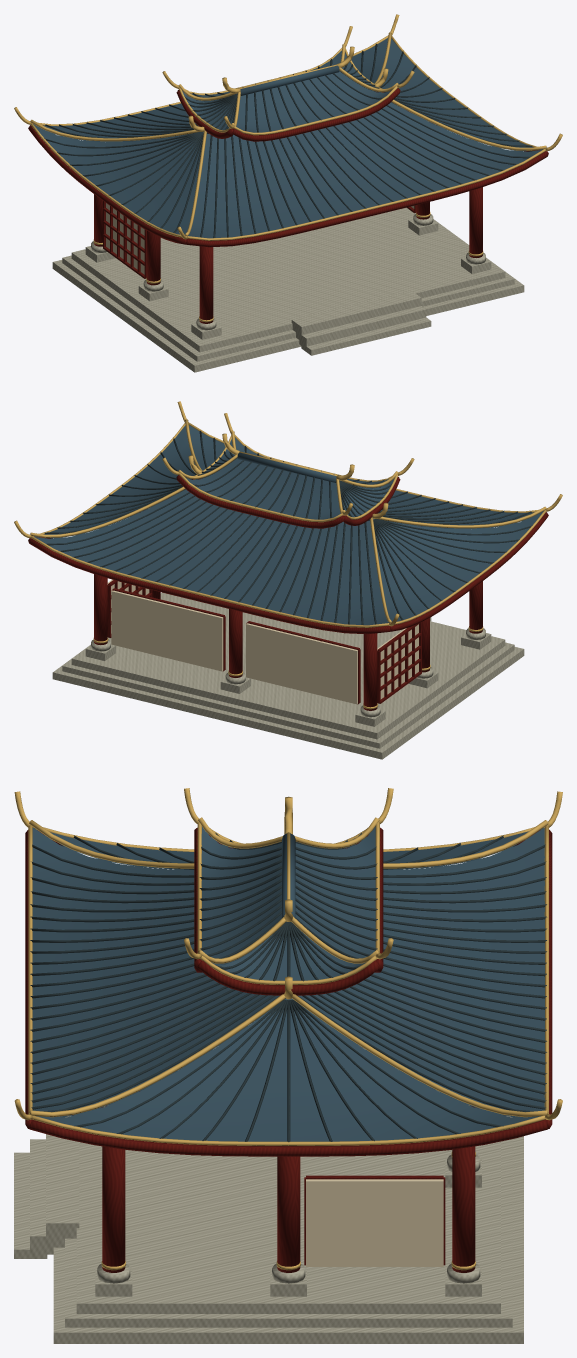
Rendered from pavilion.glb.
3 views of the same model, one above another, from view 1: azimuth 30°, elevation 25°; view 2: azimuth 150°, elevation 25°; view 3: azimuth 270°, elevation 25° (orthographic). The views are drawn at different scales.
Visible parts, largest first — view 1: pavilion_Temple_Charcoal_Glazed_Tiles, pavilion_Temple_Worn_Pale_Stone, pavilion_Temple_Dark_Ridge_and_Iron, pavilion_Temple_Red_Timber, pavilion_Temple_Antique_Gold, pavilion_Temple_Warm_Paper; view 2: pavilion_Temple_Charcoal_Glazed_Tiles, pavilion_Temple_Worn_Pale_Stone, pavilion_Temple_Dark_Ridge_and_Iron, pavilion_Temple_Warm_Paper, pavilion_Temple_Red_Timber, pavilion_Temple_Antique_Gold; view 3: pavilion_Temple_Charcoal_Glazed_Tiles, pavilion_Temple_Worn_Pale_Stone, pavilion_Temple_Dark_Ridge_and_Iron, pavilion_Temple_Red_Timber, pavilion_Temple_Antique_Gold, pavilion_Temple_Warm_Paper.
Boxes of the visible parts, x1,y1,x2,y2 form: pavilion_Temple_Charcoal_Glazed_Tiles: [33, 38, 543, 238]; pavilion_Temple_Worn_Pale_Stone: [52, 207, 524, 372]; pavilion_Temple_Dark_Ridge_and_Iron: [44, 43, 532, 237]; pavilion_Temple_Red_Timber: [28, 88, 548, 323]; pavilion_Temple_Antique_Gold: [14, 14, 562, 322]; pavilion_Temple_Warm_Paper: [106, 203, 414, 274]; pavilion_Temple_Charcoal_Glazed_Tiles: [34, 425, 543, 625]; pavilion_Temple_Worn_Pale_Stone: [52, 592, 524, 759]; pavilion_Temple_Dark_Ridge_and_Iron: [44, 430, 532, 624]; pavilion_Temple_Warm_Paper: [107, 579, 418, 704]; pavilion_Temple_Red_Timber: [28, 475, 548, 710]; pavilion_Temple_Antique_Gold: [14, 401, 562, 709]; pavilion_Temple_Charcoal_Glazed_Tiles: [32, 826, 544, 1141]; pavilion_Temple_Worn_Pale_Stone: [14, 1070, 523, 1343]; pavilion_Temple_Dark_Ridge_and_Iron: [30, 832, 546, 1142]; pavilion_Temple_Red_Timber: [25, 827, 552, 1272]; pavilion_Temple_Antique_Gold: [14, 788, 562, 1270]; pavilion_Temple_Warm_Paper: [306, 1179, 443, 1266].
Bounding box in the file's own units: 12.85 × 6.95 × 9.57.
Materials: 6 (2 with a texture image).
